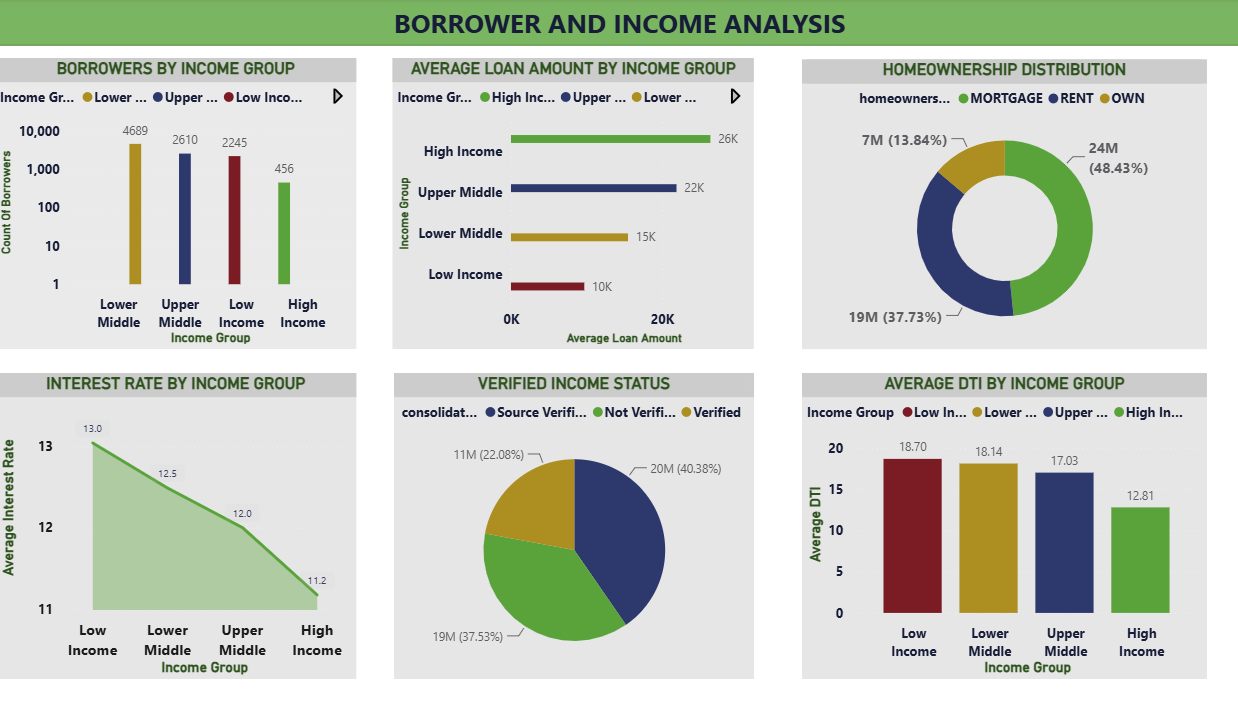

This screenshot's page, from the dashboard's own definition file:
{"tool":"powerbi","page":{"name":"BORROWER AND INCOME ANALYSIS","canvas":[1280,720],"ordinal":2},"visuals":[{"type":"shape","box":[0,0,1279.5,48.9],"z":0},{"type":"clusteredColumnChart","title":"BORROWERS BY INCOME GROUP","fields":{"Category":["CLEAN_DATASET.Income Group"],"Y":["CountNonNull(CLEAN_DATASET.id)"],"Series":["CLEAN_DATASET.Income Group"]},"box":[0,61.4,370.2,298],"z":1},{"type":"clusteredBarChart","title":"AVERAGE LOAN AMOUNT BY INCOME GROUP","fields":{"Category":["CLEAN_DATASET.Income Group"],"Y":["CLEAN_DATASET.Average Loan Amount"],"Series":["CLEAN_DATASET.Income Group"]},"box":[407,61.4,370.2,298],"z":2},{"type":"donutChart","title":"HOMEOWNERSHIP DISTRIBUTION","fields":{"Category":["CLEAN_DATASET.homeownership"],"Y":["Sum(CLEAN_DATASET.id)"]},"box":[826.4,63,414.7,296.4],"z":3},{"type":"pieChart","title":"VERIFIED INCOME STATUS","fields":{"Category":["CLEAN_DATASET.consolidated_verified_income"],"Y":["Sum(CLEAN_DATASET.id)"]},"box":[408.6,384,368.6,313.3],"z":5},{"type":"columnChart","title":"AVERAGE DTI BY INCOME GROUP","fields":{"Category":["CLEAN_DATASET.Income Group"],"Y":["CLEAN_DATASET.Average DTI"],"Series":["CLEAN_DATASET.Income Group"]},"box":[826.4,384,414.7,313.3],"z":6},{"type":"lineChart","title":"INTEREST RATE BY INCOME GROUP","fields":{"Category":["CLEAN_DATASET.Income Group"],"Y":["CLEAN_DATASET.Average Interest Rate"]},"box":[0,384,370.2,313.3],"z":7}]}

Visuals, with their boxes in screenshot pixels (x1, y1, x2, y2), scaled from the page's 1280x720 canvas onto the 1238x701 screenshot:
shape: bbox(0, 0, 1237, 48)
"BORROWERS BY INCOME GROUP" clusteredColumnChart: bbox(0, 60, 358, 350)
"AVERAGE LOAN AMOUNT BY INCOME GROUP" clusteredBarChart: bbox(394, 60, 752, 350)
"HOMEOWNERSHIP DISTRIBUTION" donutChart: bbox(799, 61, 1200, 350)
"VERIFIED INCOME STATUS" pieChart: bbox(395, 374, 752, 679)
"AVERAGE DTI BY INCOME GROUP" columnChart: bbox(799, 374, 1200, 679)
"INTEREST RATE BY INCOME GROUP" lineChart: bbox(0, 374, 358, 679)
